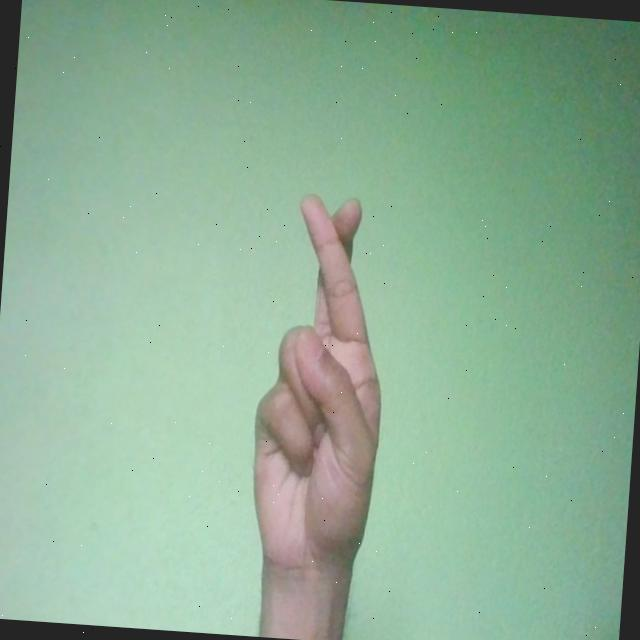Ok: (242, 191, 396, 586)
